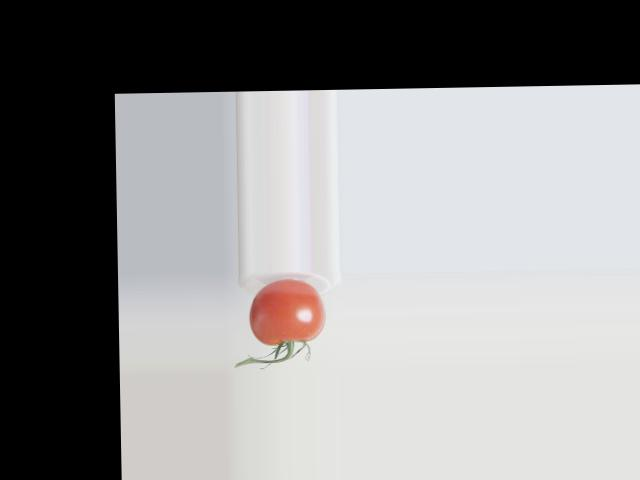tomato: (248, 278, 325, 345)
